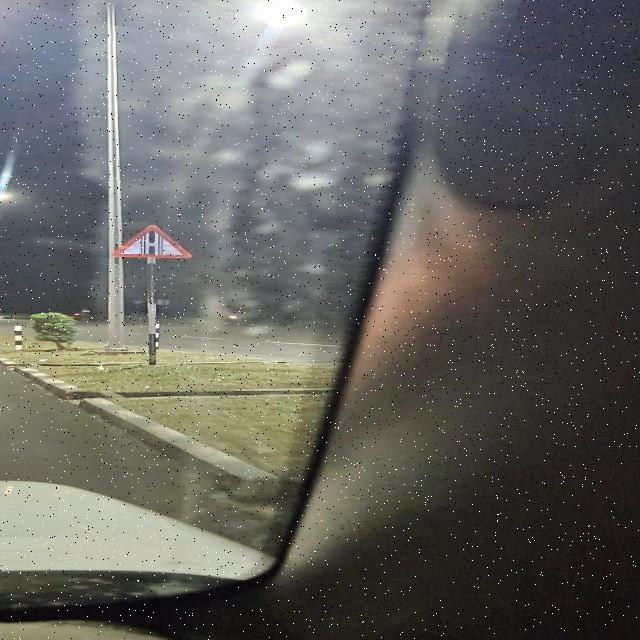gap_in_median: (112, 225, 193, 257)
